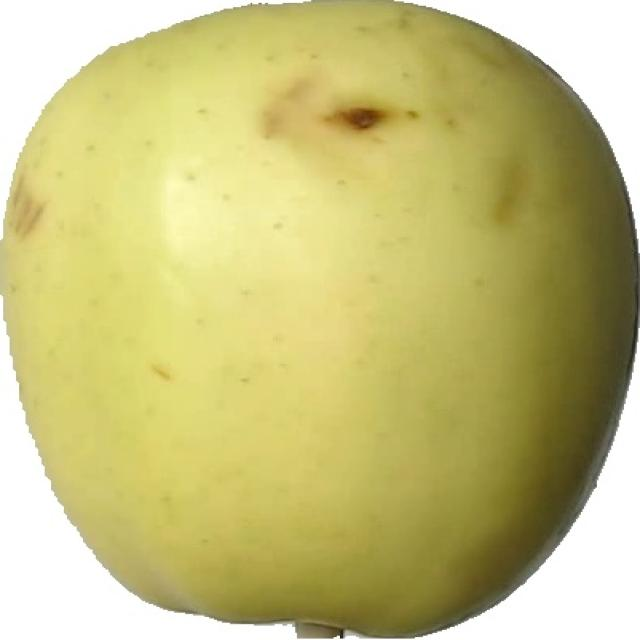Golden Elma: (0, 0, 640, 636)
